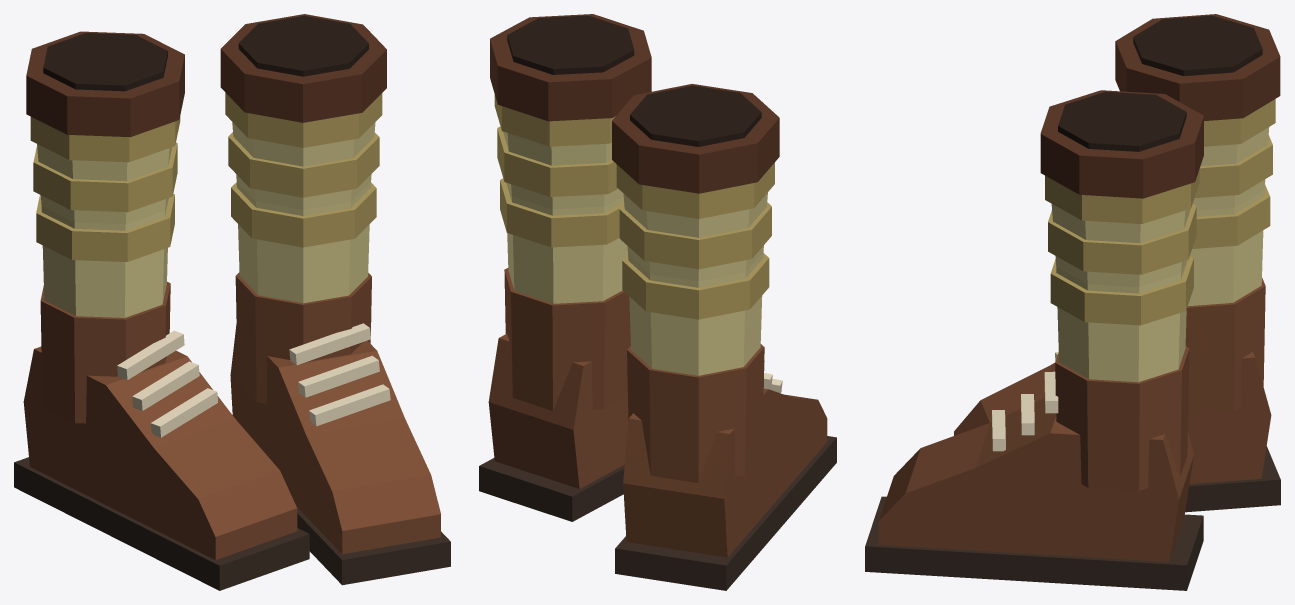
File: wading_boots.glb
3 views of the same model, side by side, from view 1: azimuth 30°, elevation 25°; view 2: azimuth 150°, elevation 25°; view 3: azimuth 270°, elevation 25° (orthographic).
Visible parts, largest first — view 1: wading_boots; view 2: wading_boots; view 3: wading_boots.
Part boxes in pixels (box(x1,y1,x2,y2)): wading_boots: box(14, 14, 450, 590); wading_boots: box(479, 14, 836, 590); wading_boots: box(865, 14, 1280, 590).
Bounding box in the file's own units: 0.3261 × 0.455 × 0.3838.
